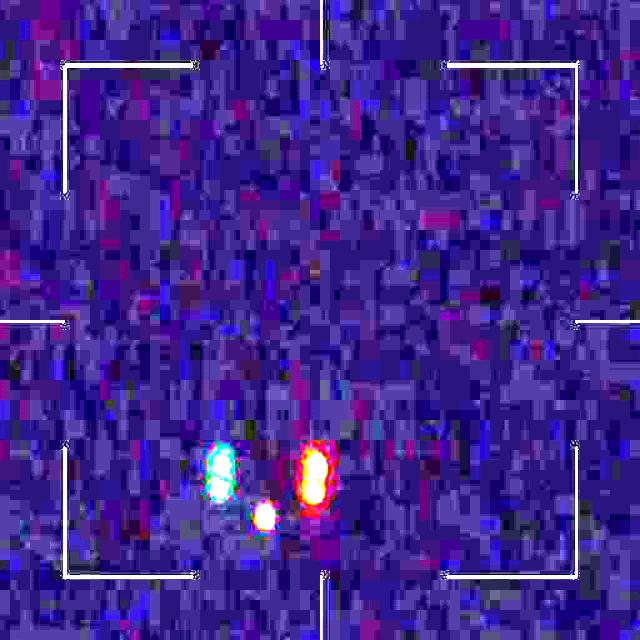bird: (212, 448, 330, 529)
